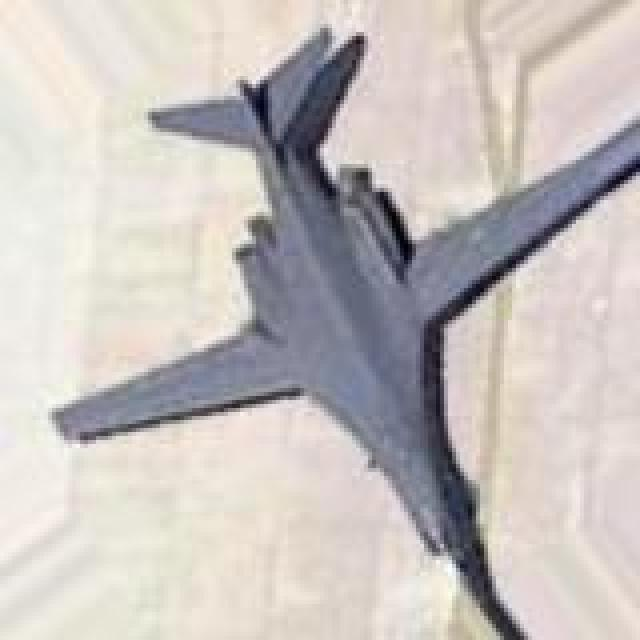B-1_TopDown: (44, 20, 636, 636)
